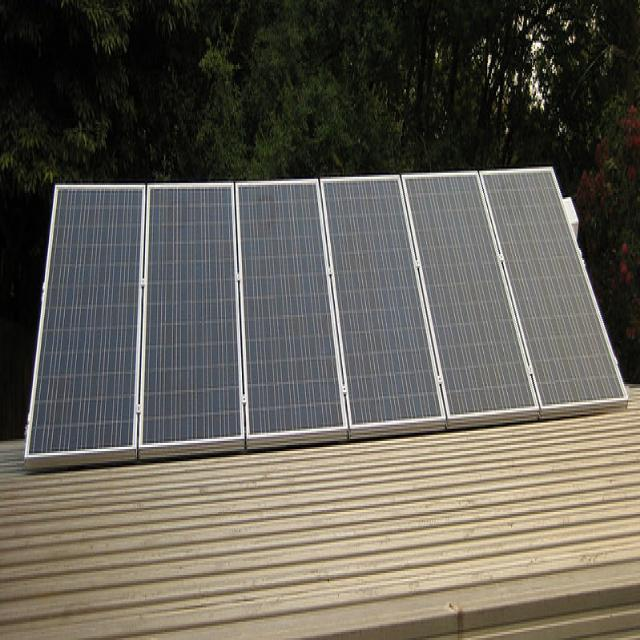no faulty: (42, 187, 145, 463), (239, 183, 341, 445), (146, 173, 234, 455), (426, 160, 516, 418), (338, 168, 426, 422), (516, 164, 598, 414)
